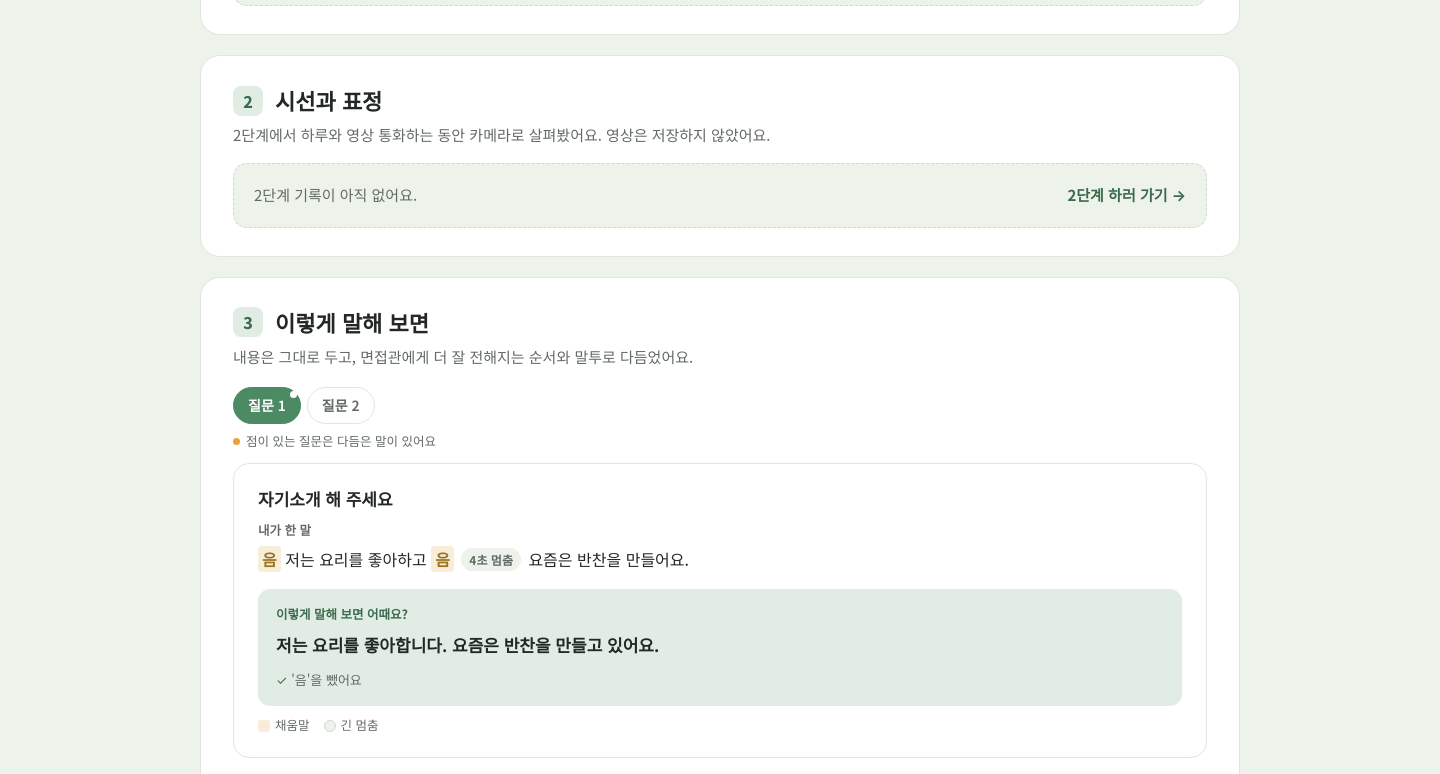
Test: 최종 리포트 첫 화면 › 리포트 AI가 끝날 때까지 쓰는 화면에서 기다렸다가, 다듬은 말과 함께 한 번에 보여 준다
This screenshot has width=1440, height=774.
Later steps or results of the test are not shown.
(page scrolled)
expect the heading "이렇게 말해 보면" is shown: met, box [275,306,429,339]
expect the text "저는 요리를 좋아합니다. 요즘은 반찬을 만들고 있어요." is shown: met, box [276,632,659,657]
Click the tab "질문 2": (341, 405) [307,387,375,424]
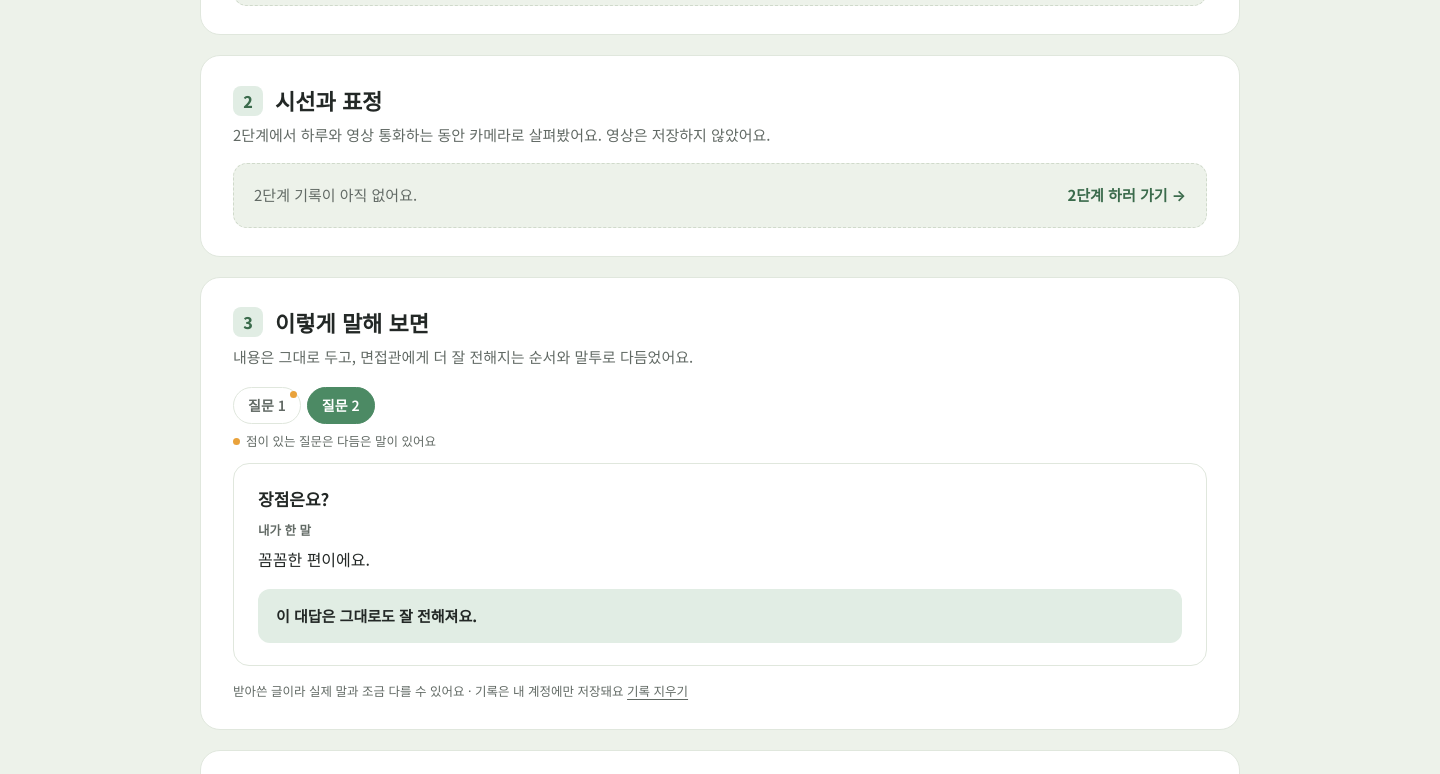
expect the text "이 대답은 그대로도 잘 전해져요." is shown: met, box [258,589,1182,643]
